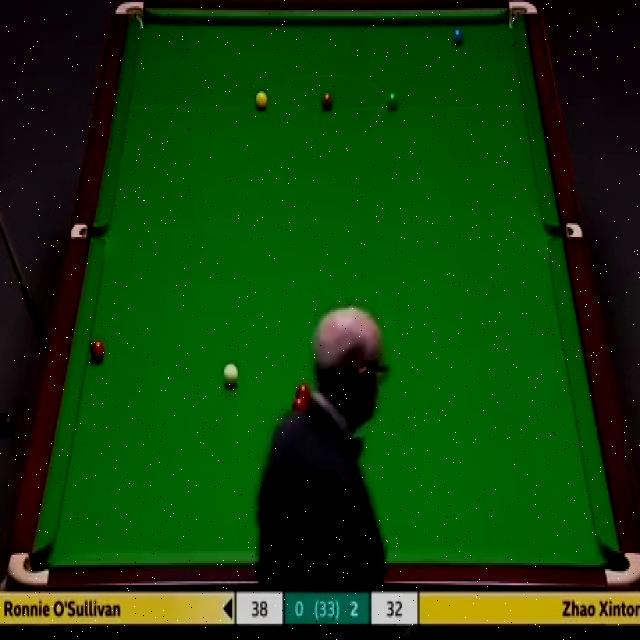blue-ball: (451, 27, 464, 45)
brown-ball: (320, 90, 334, 111)
green-ball: (384, 91, 399, 112)
red-ball: (89, 340, 106, 363), (291, 396, 306, 419), (296, 383, 312, 404)
white-ball: (222, 362, 240, 389)
yellow-ball: (254, 89, 268, 110)
